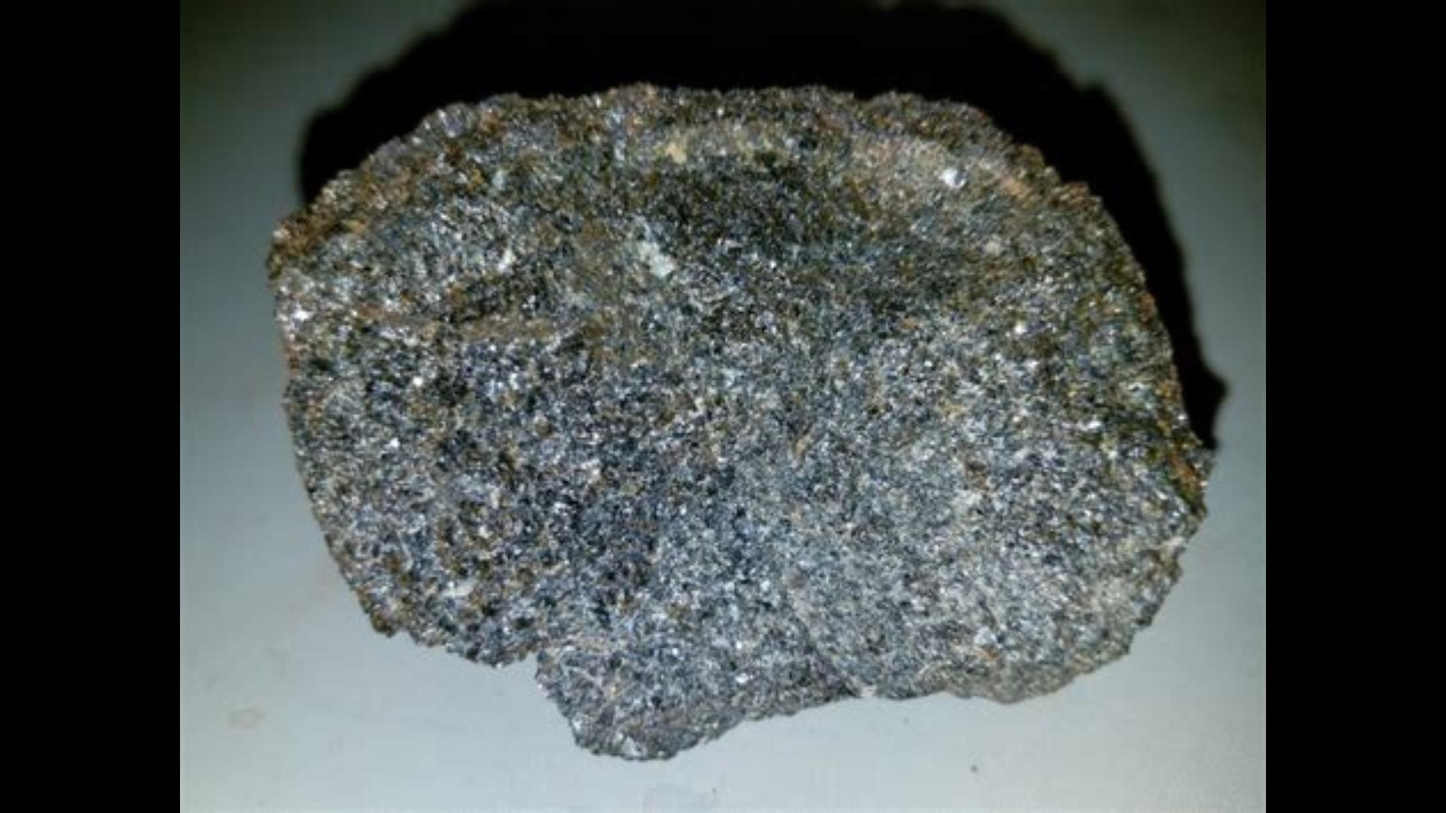rock: (274, 87, 1206, 751)
